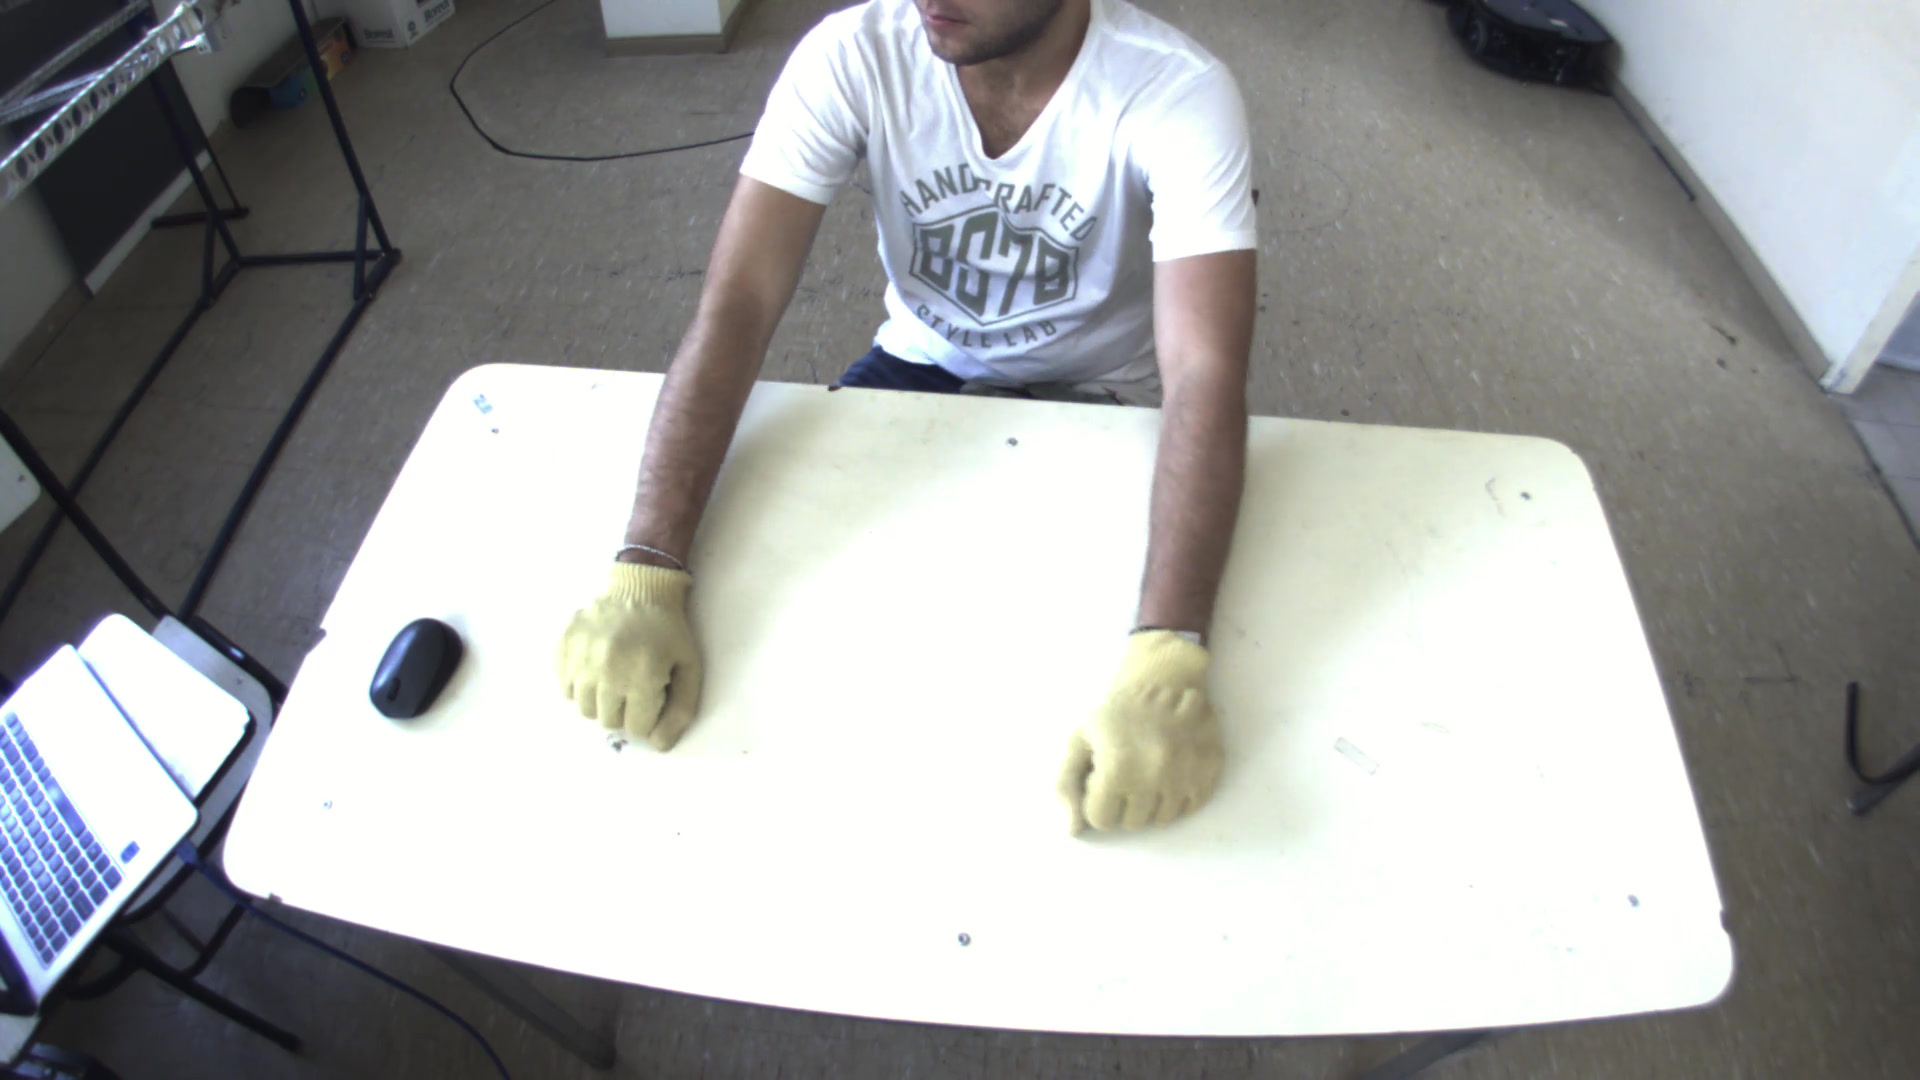hand: (1052, 622, 1247, 844), (545, 543, 716, 761)
